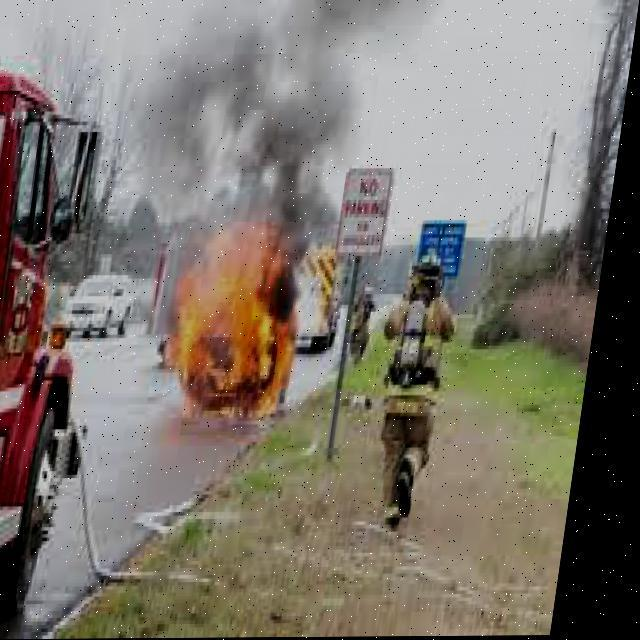Fire: (152, 208, 343, 443)
